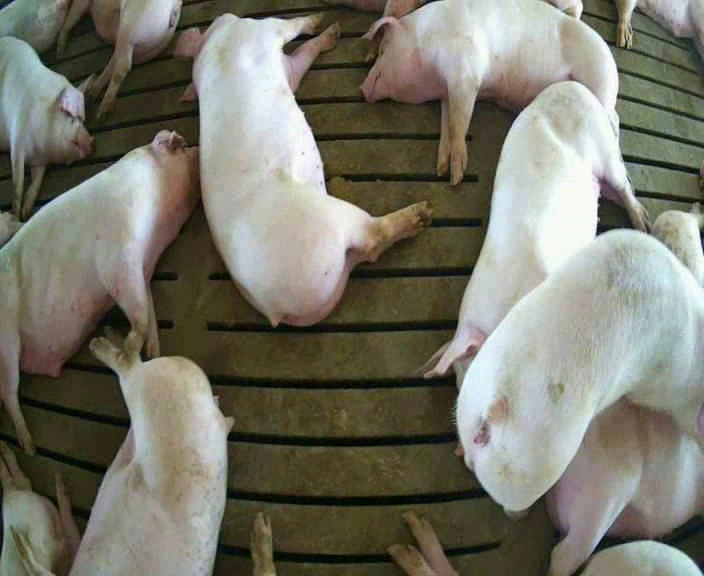pig: (173, 14, 430, 324), (410, 81, 648, 392), (0, 131, 198, 453), (361, 2, 618, 184), (547, 399, 703, 573), (57, 1, 181, 118), (616, 1, 703, 61), (651, 202, 703, 286)
